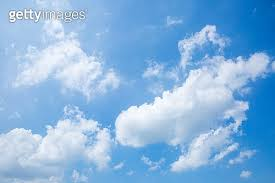sky: (7, 23, 256, 170)
